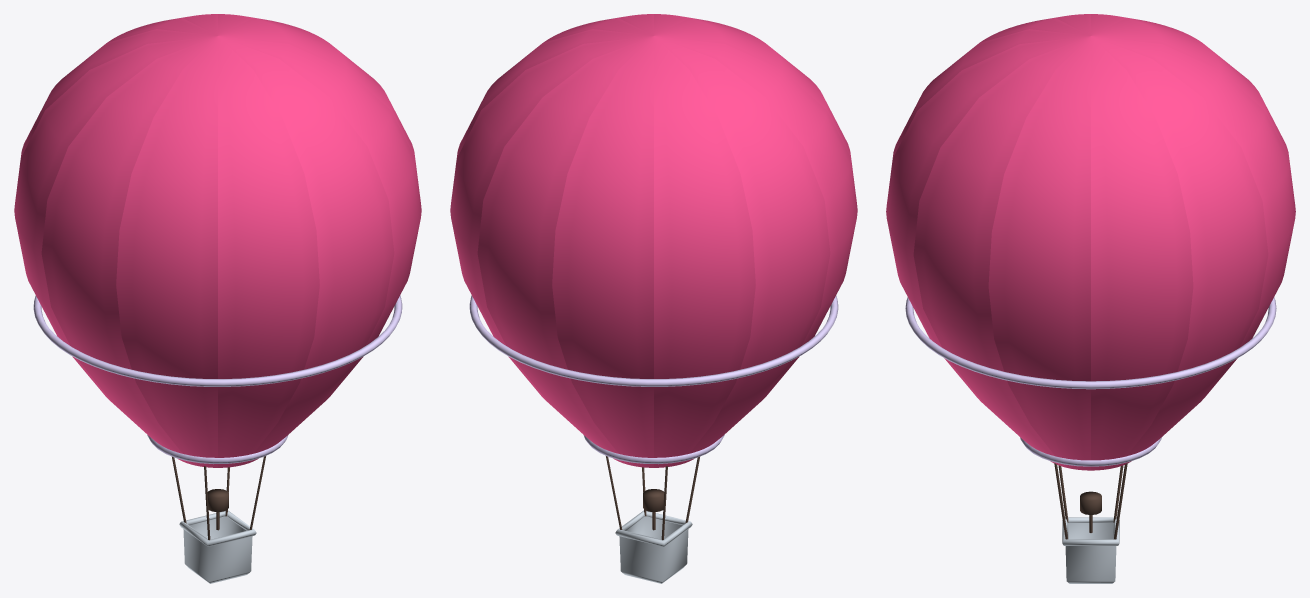
File: LobbyHotAirBalloon.obj
3 renders of one model, left to right at view 1: azimuth 30°, elevation 25°; view 2: azimuth 150°, elevation 25°; view 3: azimuth 270°, elevation 25°, orthographic.
Parts seen in each view (by area): view 1: Envelope, Stripes, Band, Basket, Ropes; view 2: Stripes, Envelope, Band, Basket, Ropes; view 3: Envelope, Stripes, Band, Basket, Ropes.
Boxes of the visible parts, left/top/right/bottom form: Envelope: left=14, top=14, right=421, bottom=467; Stripes: left=14, top=14, right=421, bottom=467; Band: left=33, top=295, right=402, bottom=464; Basket: left=179, top=510, right=256, bottom=583; Ropes: left=172, top=456, right=265, bottom=540; Stripes: left=450, top=14, right=857, bottom=467; Envelope: left=450, top=14, right=857, bottom=467; Band: left=469, top=295, right=838, bottom=464; Basket: left=615, top=510, right=692, bottom=583; Ropes: left=606, top=456, right=699, bottom=540; Envelope: left=886, top=14, right=1295, bottom=470; Stripes: left=886, top=14, right=1295, bottom=470; Band: left=905, top=297, right=1276, bottom=466; Basket: left=1062, top=517, right=1119, bottom=583; Ropes: left=1054, top=463, right=1127, bottom=539.
Size of the model in its own units: 18.4 by 26.7 by 18.4.
